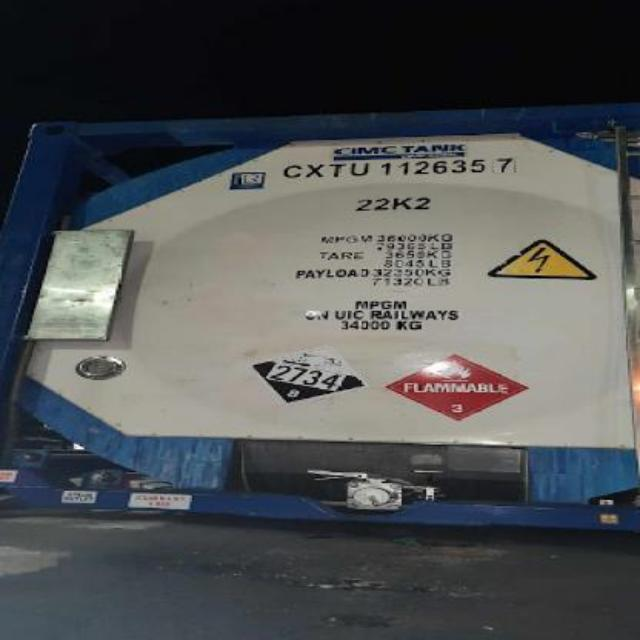1: (378, 161, 396, 177), (396, 160, 412, 176)
2: (411, 160, 432, 176)
3: (452, 158, 468, 174)
5: (468, 158, 488, 172)
6: (431, 159, 452, 175)
7: (494, 158, 516, 172)
C: (280, 163, 304, 179)
T: (326, 161, 350, 177)
U: (348, 161, 372, 177)
X: (302, 162, 326, 178)
